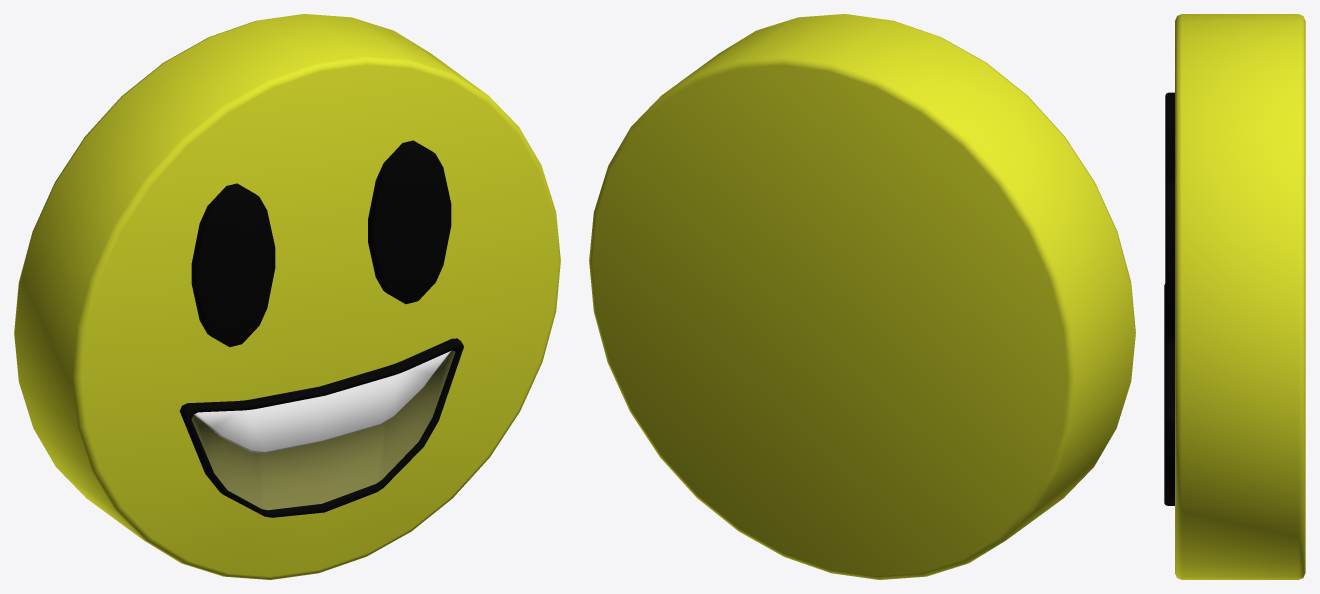
The model's file is Smiley.gltf.
3 renders of one model, left to right at view 1: azimuth 30°, elevation 25°; view 2: azimuth 150°, elevation 25°; view 3: azimuth 270°, elevation 25°, orthographic.
Parts seen in each view (by area): view 1: Cylinder.129; view 2: Cylinder.129; view 3: Cylinder.129.
Part boxes in pixels (box(x1,y1,x2,y2)): Cylinder.129: box(14, 14, 560, 579); Cylinder.129: box(589, 14, 1135, 579); Cylinder.129: box(1164, 14, 1305, 579).
Bounding box in the file's own units: 0.8686 × 0.8686 × 0.2162.
